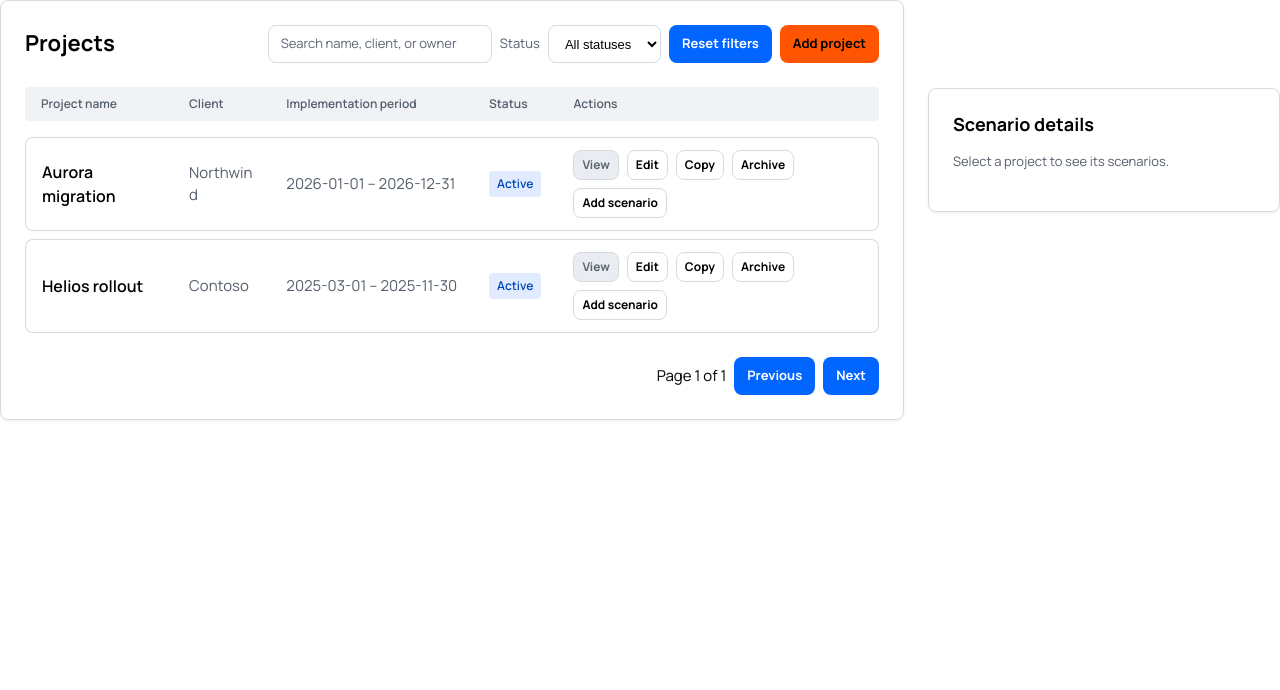
K-02 — the amount and currency are exactly the revenue's, never through Number() › renders an amount beyond a double's precision digit for digit, in the revenue's own currency
The width and height of the screenshot is (1280, 690).
Click the button "Aurora migration": {"x": 100, "y": 184} [42,160,157,208]
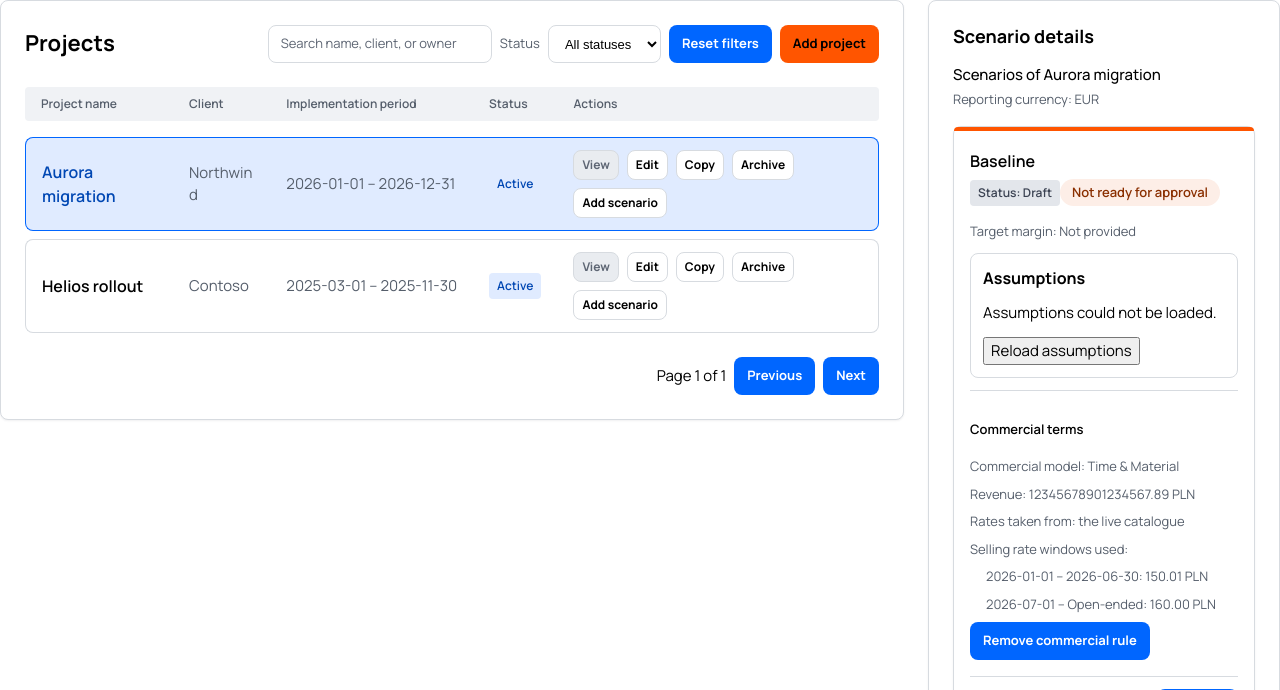
Expected: the element "Commercial terms" does not show "EUR"
Now the text "Revenue: 12345678901234567.89 PLN" is shown, box [970,485,1195,503]
Now the text "Reporting currency: EUR" is shown, box [953,90,1099,108]
